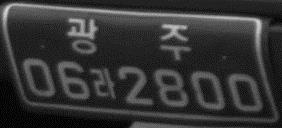0: (226, 72, 264, 113), (189, 69, 225, 110), (22, 56, 57, 98)
2: (116, 64, 154, 106)
6: (57, 59, 90, 101)
8: (154, 67, 189, 108)
광주_D: (66, 16, 193, 62)
라: (90, 66, 117, 101)
